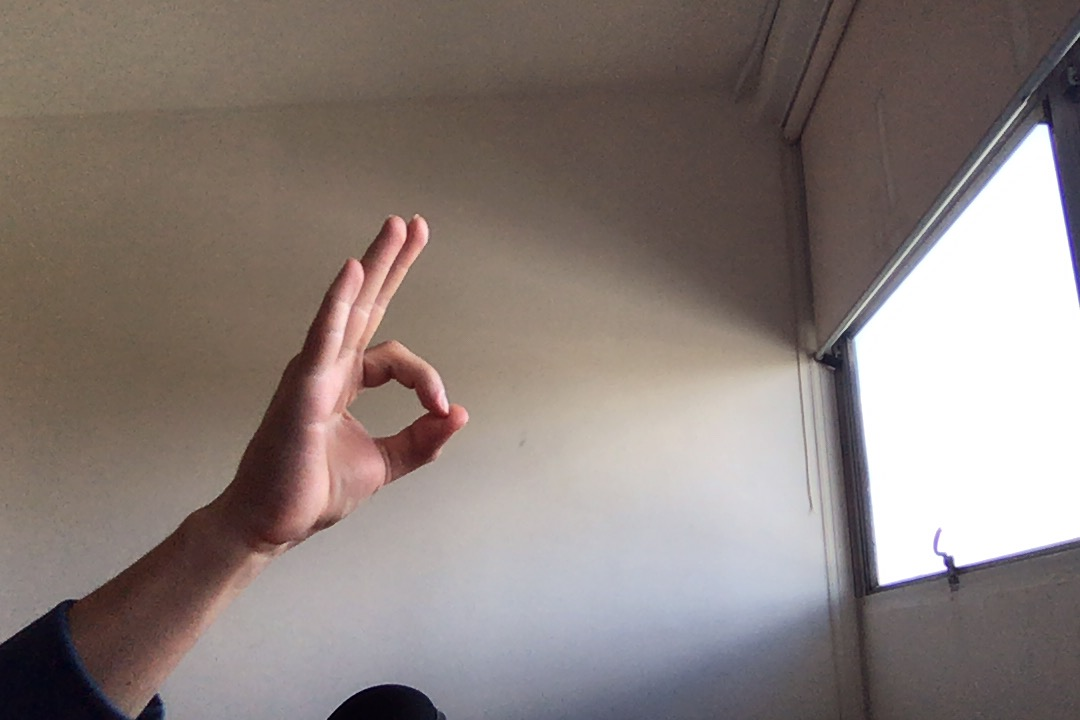oksign: (246, 205, 476, 553)
